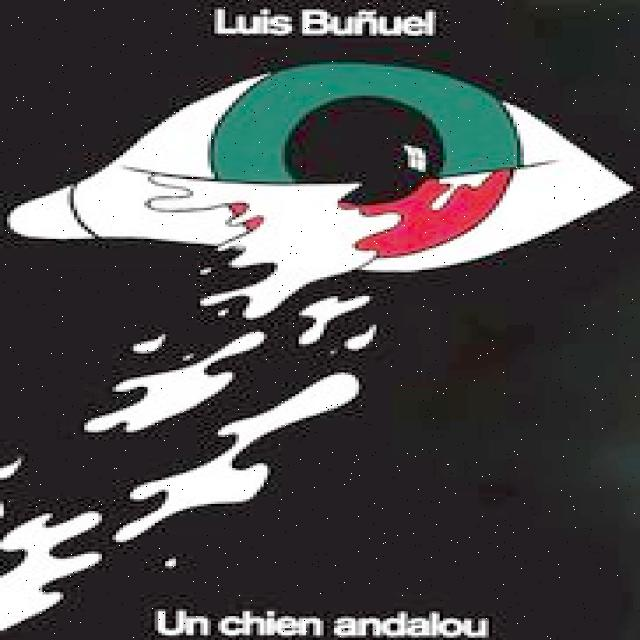movie-judul: (137, 581, 508, 640), (190, 3, 484, 41)
picture: (2, 66, 636, 634)
